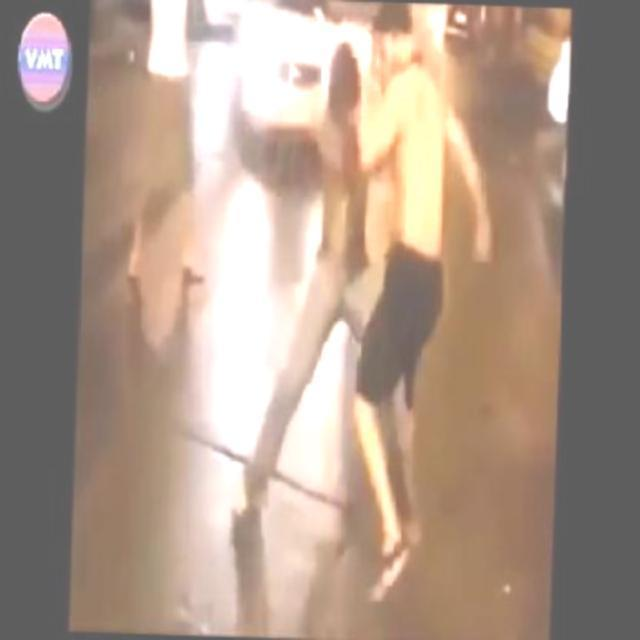fight: (251, 0, 500, 386)
